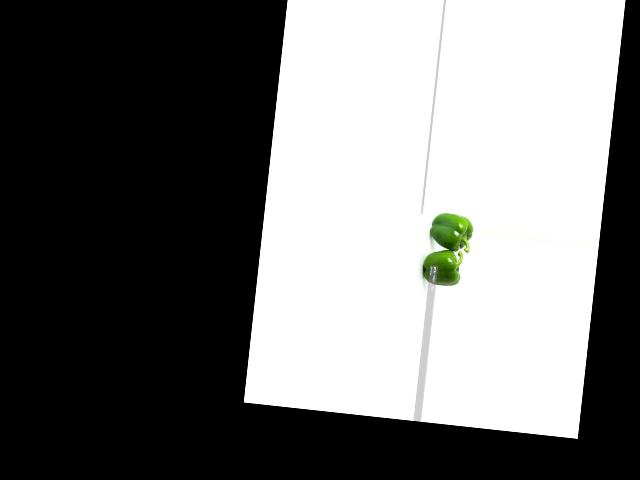bell_pepper: (422, 210, 477, 252)
